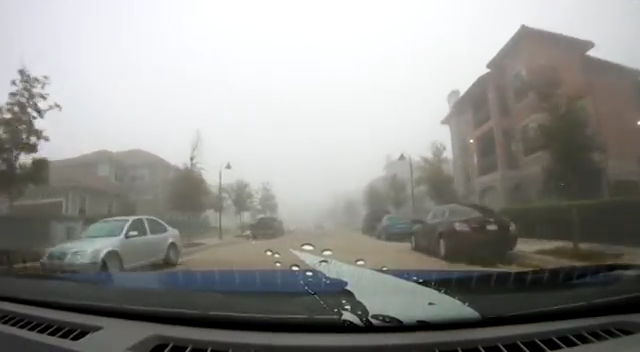car: (39, 216, 183, 274), (410, 204, 518, 261), (372, 214, 418, 241), (361, 209, 393, 234), (250, 216, 284, 239)
